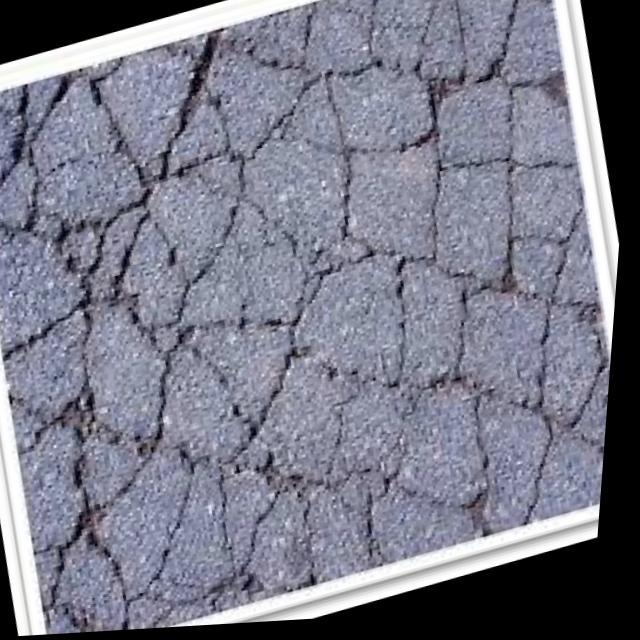Crack: (303, 51, 618, 463), (7, 82, 308, 447), (63, 401, 352, 634)
